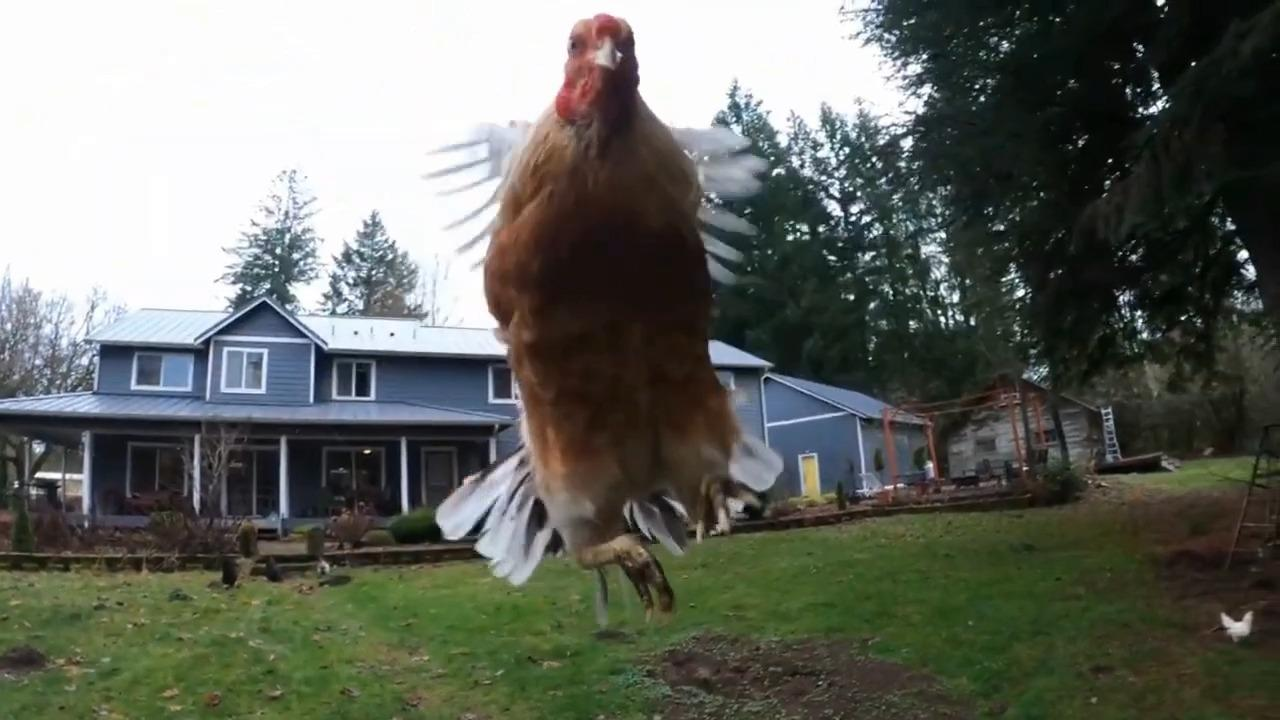Normal: (438, 6, 786, 620)
